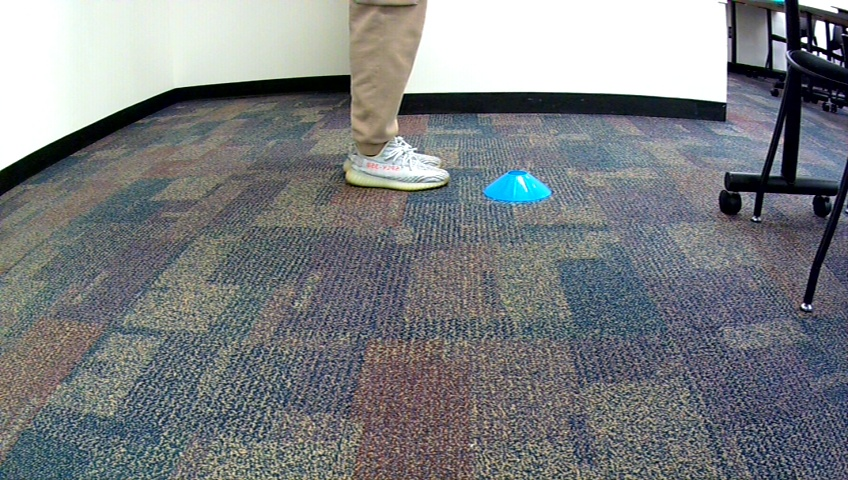cone: (481, 168, 552, 203)
